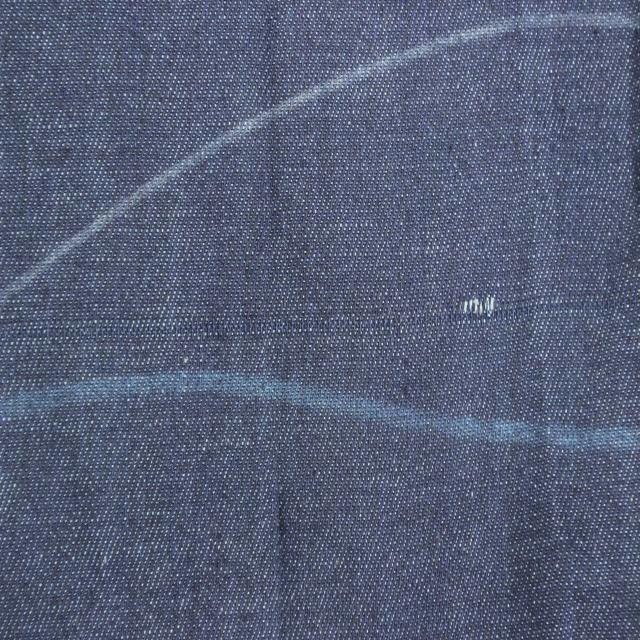pulled_or_thick_thread: (450, 295, 506, 328)
